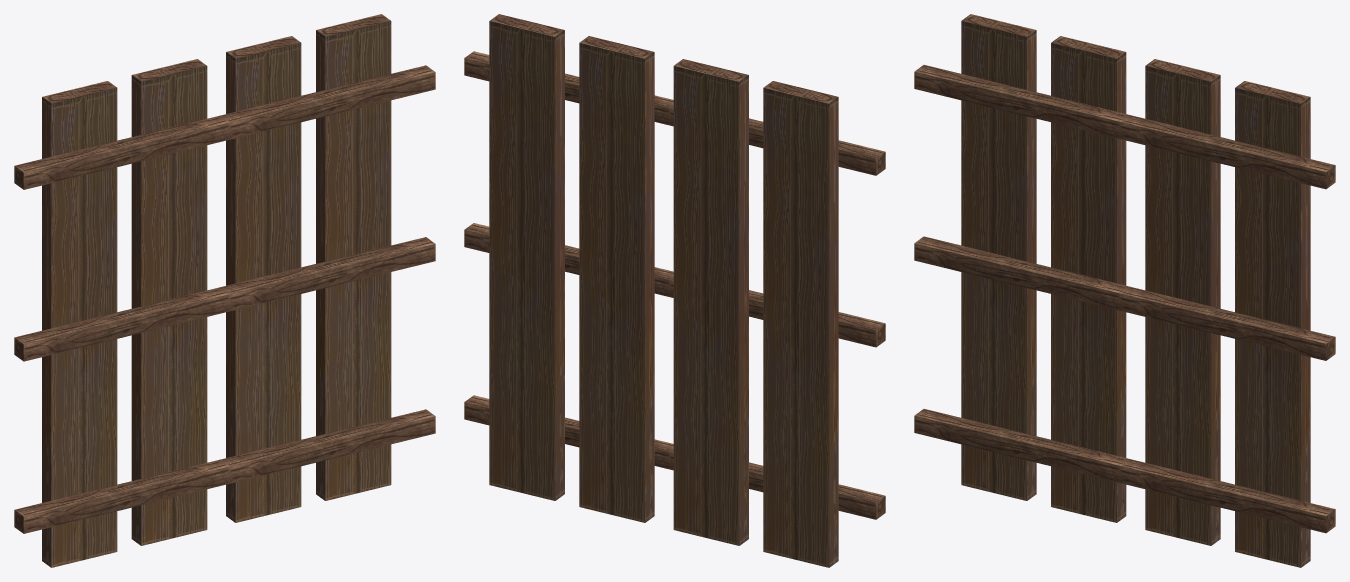
Rendered from wood Plant.fbx.
3 renders of one model, left to right at view 1: azimuth 30°, elevation 25°; view 2: azimuth 150°, elevation 25°; view 3: azimuth 330°, elevation 25°, orthographic.
Visible parts, largest first — view 1: wood plant; view 2: wood plant; view 3: wood plant.
Part boxes in pixels (x1,y1,x2,y2): wood plant: [14, 14, 435, 567]; wood plant: [464, 14, 885, 567]; wood plant: [914, 14, 1335, 567].
Size of the model in its own units: 63.5 by 68.37 by 5.11.
